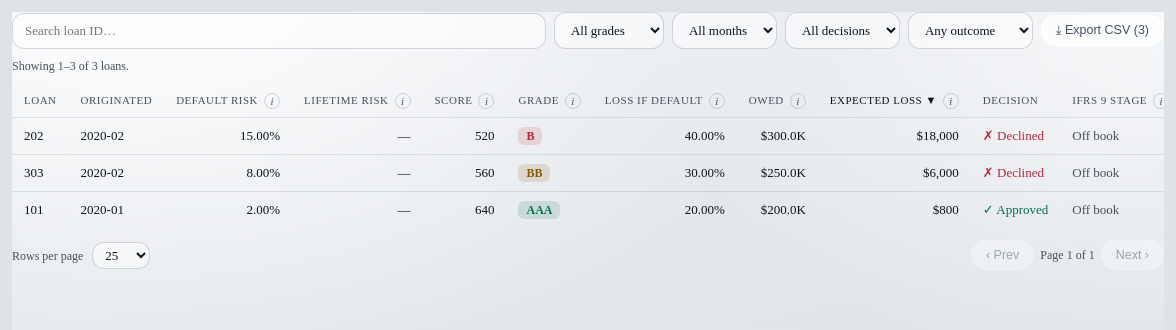
Test case: LoanTable › filters by search and by decision, with removable chips
Later steps or results of the test are not shown.
Select "Declined" in the dropdown named "Filter by decision" at (842, 30), box 785,12 -> 900,49
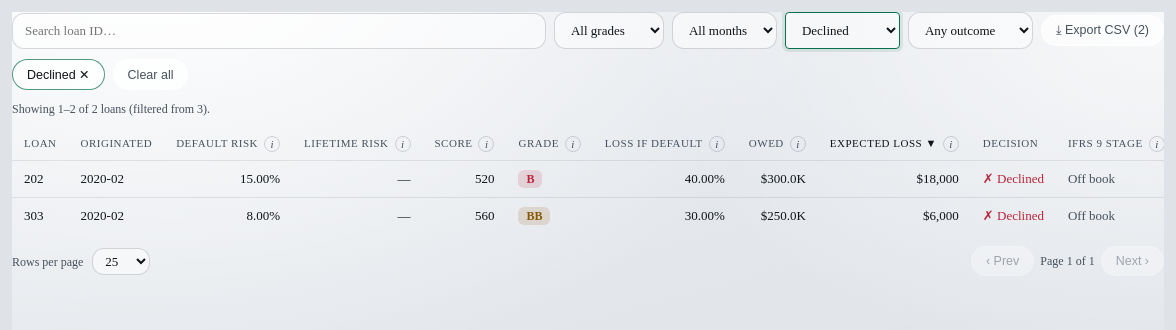
Result: the text "Showing 1–2 of 2 loans (filtered from 3)." is shown at 12,102 -> 210,116
